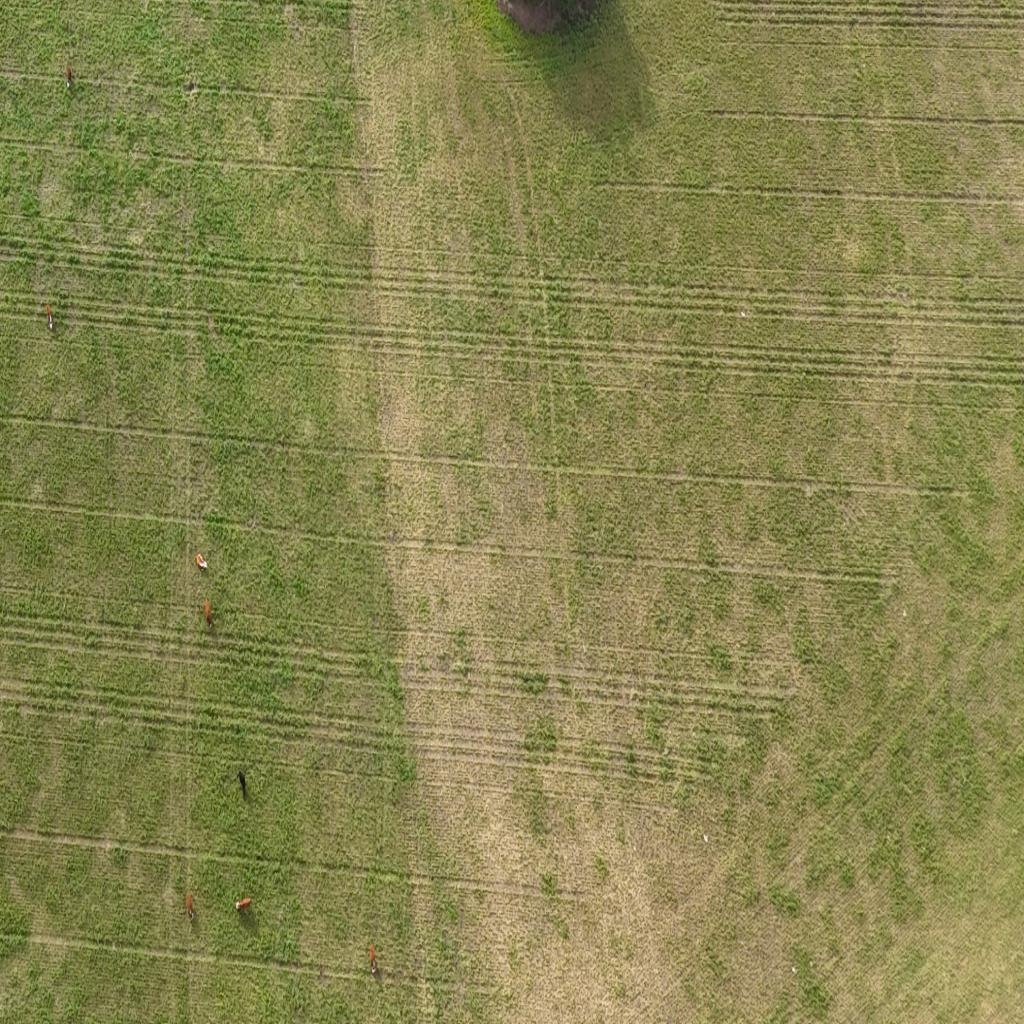cow: (229, 890, 252, 916), (202, 597, 214, 627), (368, 946, 380, 976), (237, 770, 248, 800), (194, 553, 208, 575), (186, 892, 196, 922), (64, 64, 74, 93), (45, 303, 54, 333)
